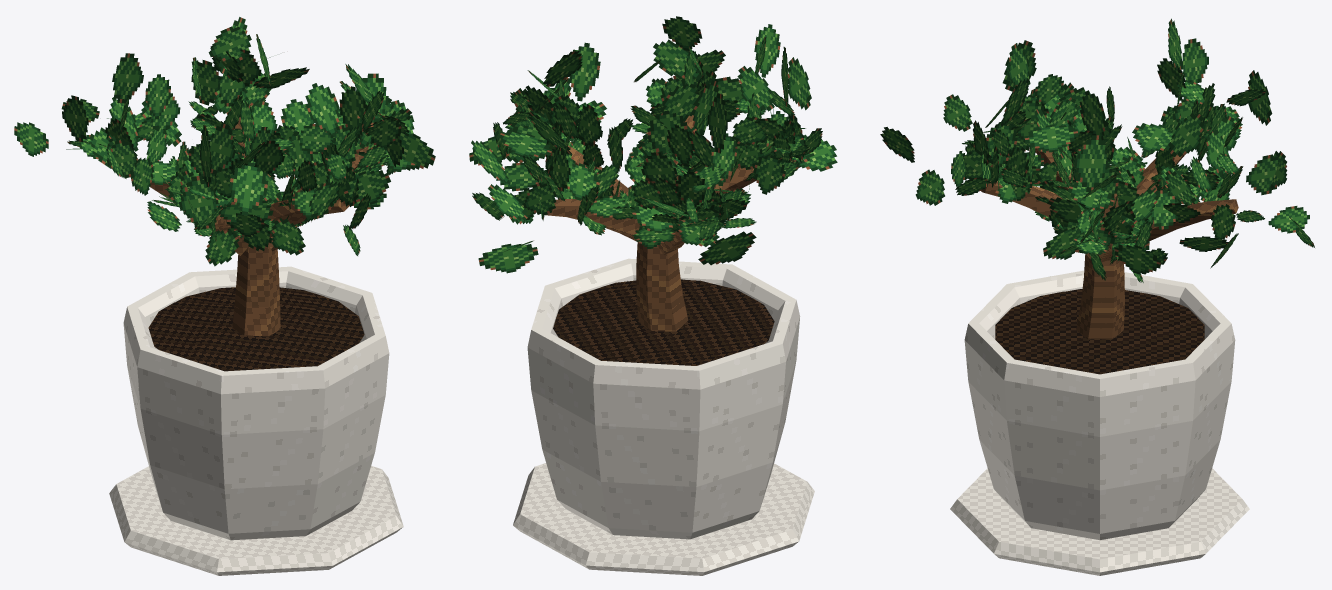
Rendered from Jade.gltf.
The picture shows the model from 3 angles, left to right: view 1: azimuth 30°, elevation 25°; view 2: azimuth 150°, elevation 25°; view 3: azimuth 270°, elevation 25°; orthographic projection. The views are drawn at different scales.
Visible parts, largest first — view 1: Pot.007, Saucer.007, Soil.007, Trunk_Main, Leaf_094, Leaf_099, Leaf_088, Leaf_055.001, Leaf_041.002, Leaf_107, Leaf_092, Leaf_015.005 (+25 smaller); view 2: Pot.007, Saucer.007, Soil.007, Trunk_Main, Leaf_028.004, Branch_01, Leaf_064, Leaf_021.005, Leaf_112, Leaf_087, Leaf_118, Leaf_128 (+33 smaller); view 3: Pot.007, Saucer.007, Soil.007, Trunk_Main, Leaf_004.005, Leaf_026.005, Leaf_105, Branch_01, Leaf_014.005, Leaf_060.001, Leaf_132, Leaf_045.002 (+20 smaller).
Part boxes in pixels (x1,y1,x2,y2): Pot.007: [123, 266, 389, 540]; Saucer.007: [109, 466, 403, 575]; Soil.007: [148, 287, 364, 371]; Trunk_Main: [232, 174, 280, 336]; Leaf_094: [229, 162, 268, 215]; Leaf_099: [305, 83, 340, 137]; Leaf_088: [178, 175, 218, 229]; Leaf_055.001: [112, 53, 143, 103]; Leaf_041.002: [208, 26, 251, 62]; Leaf_107: [343, 170, 390, 204]; Leaf_092: [209, 123, 235, 174]; Leaf_015.005: [399, 132, 435, 170]; Pot.007: [527, 258, 800, 539]; Saucer.007: [513, 463, 814, 575]; Soil.007: [553, 279, 774, 365]; Trunk_Main: [636, 174, 688, 331]; Leaf_028.004: [478, 243, 538, 273]; Branch_01: [545, 198, 658, 246]; Leaf_064: [698, 231, 756, 265]; Leaf_021.005: [569, 42, 600, 101]; Leaf_112: [653, 39, 701, 79]; Leaf_087: [737, 66, 775, 111]; Leaf_118: [660, 83, 701, 121]; Leaf_128: [647, 110, 687, 155]; Pot.007: [964, 270, 1235, 540]; Saucer.007: [950, 468, 1249, 575]; Soil.007: [995, 289, 1204, 374]; Trunk_Main: [1076, 193, 1124, 339]; Leaf_004.005: [1074, 135, 1108, 191]; Leaf_026.005: [1168, 112, 1203, 157]; Leaf_105: [1024, 124, 1078, 152]; Branch_01: [1148, 199, 1238, 240]; Leaf_014.005: [1114, 244, 1160, 274]; Leaf_060.001: [1181, 38, 1208, 83]; Leaf_132: [1132, 123, 1173, 152]; Leaf_045.002: [1246, 154, 1278, 195].
Size of the model in its own units: 2.06 by 2.73 by 2.43.
5 materials, 5 textured.
